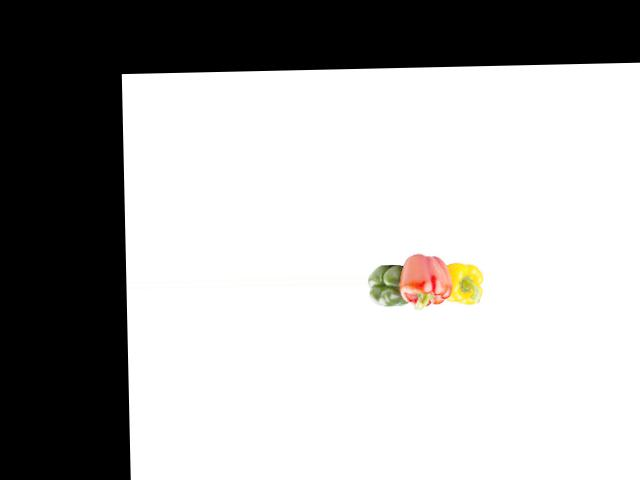bell_pepper: (442, 253, 486, 309)
